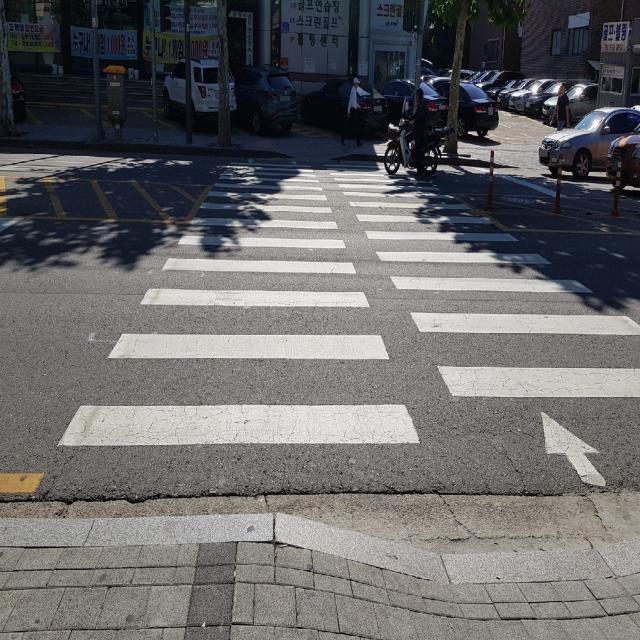횡단보도: (53, 156, 640, 490)
